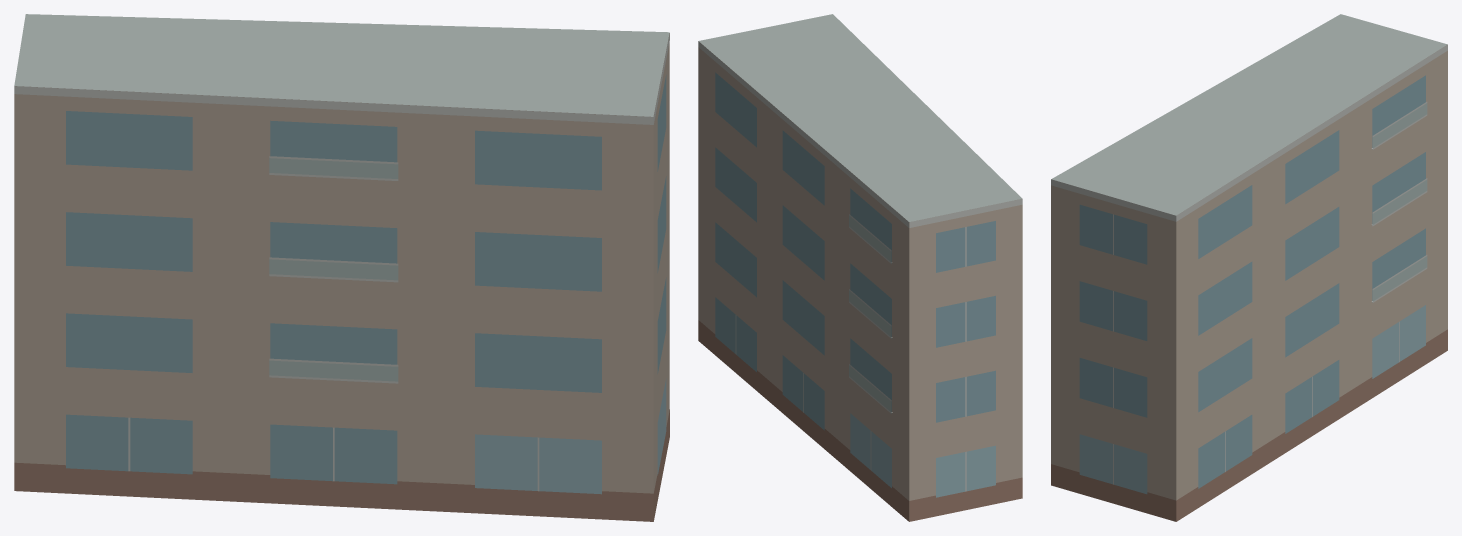
File: survey-upis-32855725.glb
3 renders of one model, left to right at view 1: azimuth 30°, elevation 25°; view 2: azimuth 150°, elevation 25°; view 3: azimuth 270°, elevation 25°, orthographic. The views are drawn at different scales.
Visible parts, largest first — view 1: survey-upis-32855725.tmp; view 2: survey-upis-32855725.tmp; view 3: survey-upis-32855725.tmp.
Part boxes in pixels (x1,y1,x2,y2): survey-upis-32855725.tmp: (14,14,669,521); survey-upis-32855725.tmp: (698,14,1022,521); survey-upis-32855725.tmp: (1051,14,1447,521).
Size of the model in its own units: 17.25 by 12.2 by 14.34.
